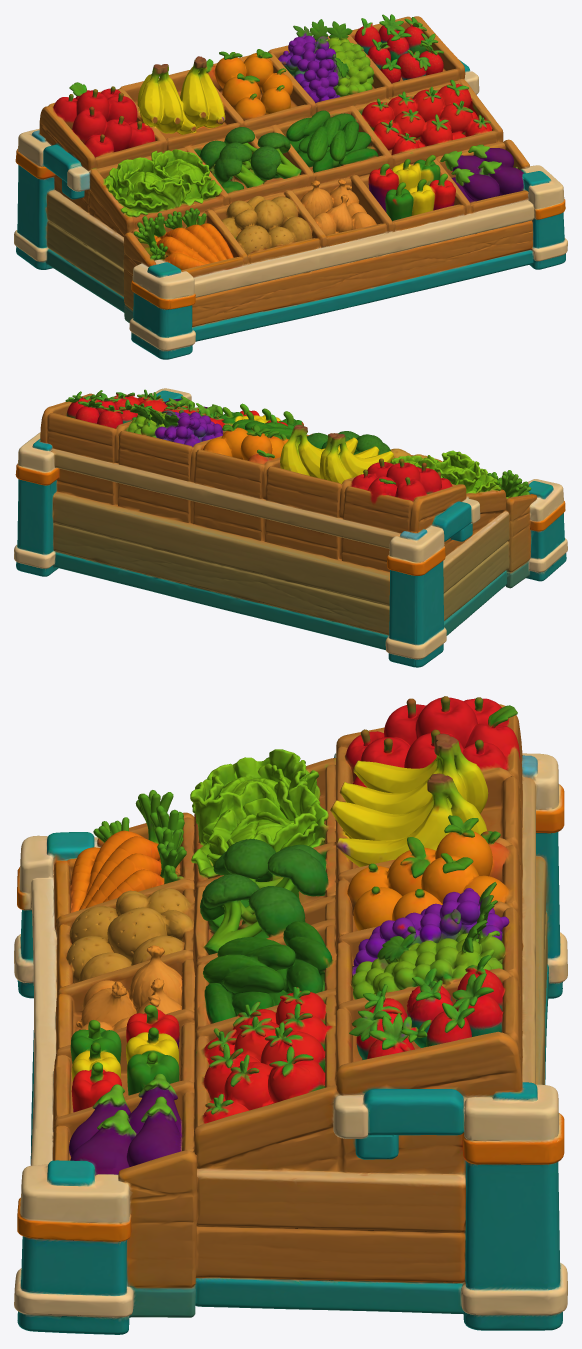
File: FruitMarketStand.glb
The picture shows the model from 3 angles, top to bottom: view 1: azimuth 30°, elevation 25°; view 2: azimuth 150°, elevation 25°; view 3: azimuth 270°, elevation 25°; orthographic projection. The views are drawn at different scales.
Parts seen in each view (by area): view 1: tripo_node_ee77ba51-7823-4c87-8c86-4d2e4193406a; view 2: tripo_node_ee77ba51-7823-4c87-8c86-4d2e4193406a; view 3: tripo_node_ee77ba51-7823-4c87-8c86-4d2e4193406a.
Boxes of the visible parts, x1=… form: tripo_node_ee77ba51-7823-4c87-8c86-4d2e4193406a: x1=14, y1=14, x2=567, y2=359; tripo_node_ee77ba51-7823-4c87-8c86-4d2e4193406a: x1=14, y1=388, x2=567, y2=667; tripo_node_ee77ba51-7823-4c87-8c86-4d2e4193406a: x1=14, y1=696, x2=567, y2=1334.
Size of the model in its own units: 0.9799 by 0.4153 by 0.6198.
Materials: 1 (1 with a texture image).
